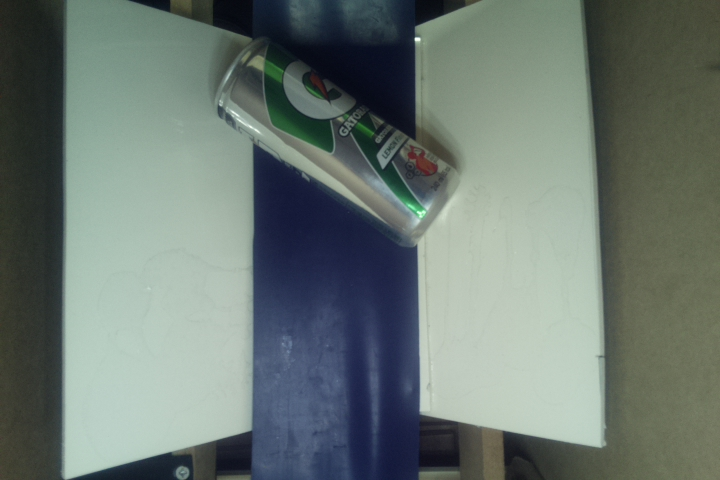can: (216, 34, 459, 246)
